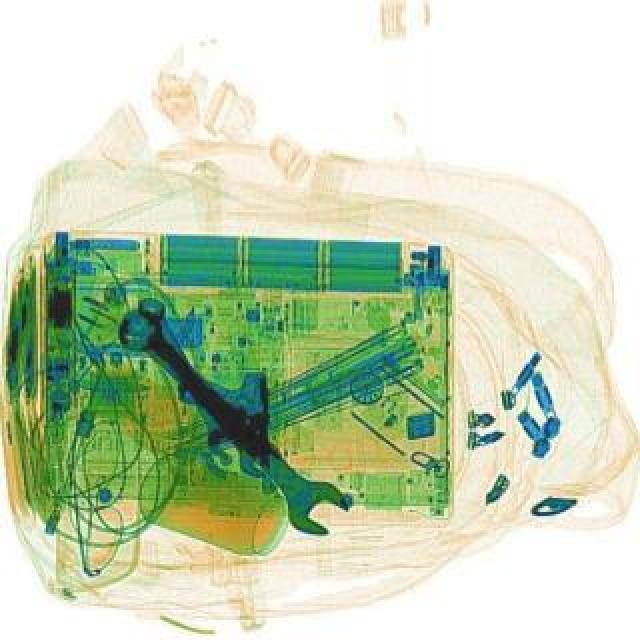gun: (178, 370, 270, 494)
scissors: (100, 294, 356, 546), (124, 286, 288, 484)
